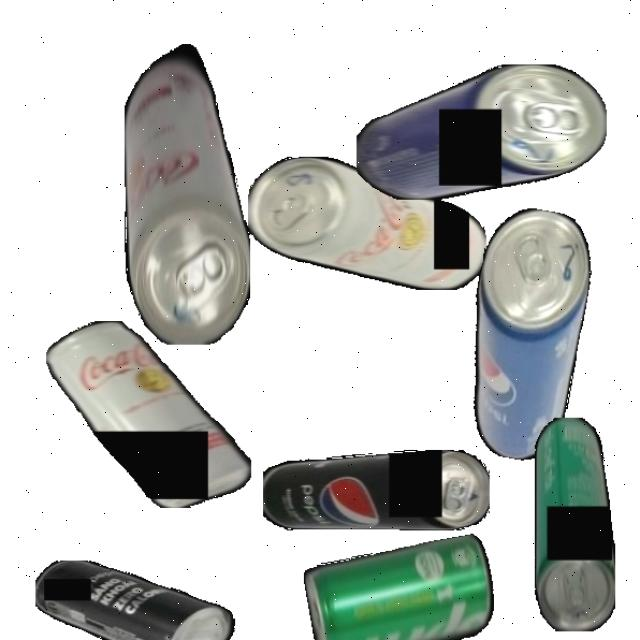debris: (450, 202, 600, 466), (124, 35, 250, 345), (46, 320, 251, 508), (355, 64, 607, 200), (248, 156, 486, 290), (301, 532, 501, 640), (262, 450, 490, 530), (534, 416, 615, 632), (36, 559, 240, 640)
